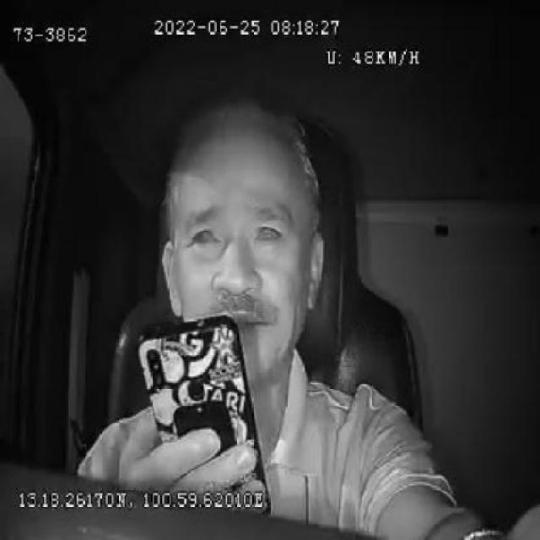phone: (137, 315, 271, 491)
